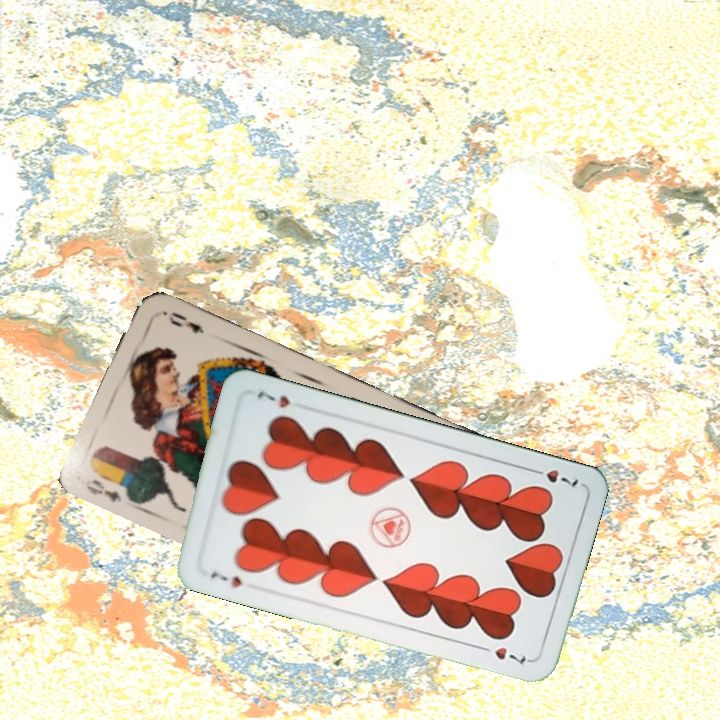EO: (81, 475, 125, 505)
H7: (525, 463, 581, 489), (206, 567, 244, 591)
